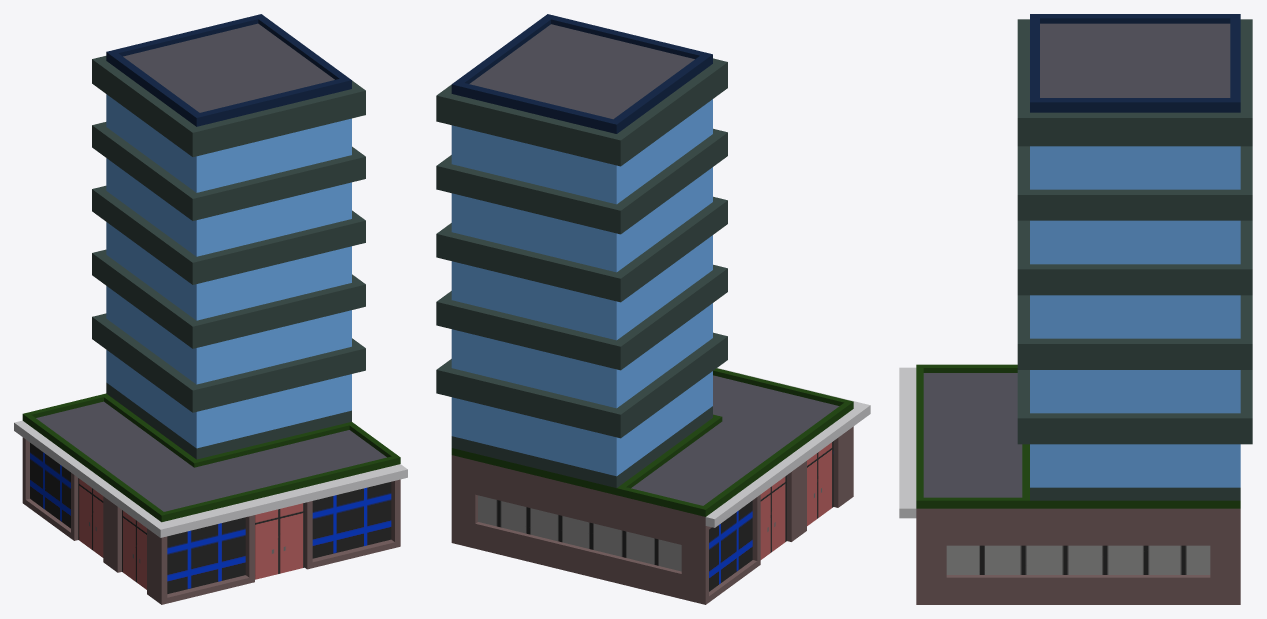
Rendered from building24a.FBX.
3 renders of one model, left to right at view 1: azimuth 30°, elevation 25°; view 2: azimuth 150°, elevation 25°; view 3: azimuth 270°, elevation 25°, orthographic. The views are drawn at different scales.
Visible parts, largest first — view 1: building24a; view 2: building24a; view 3: building24a.
Part boxes in pixels (box(x1,y1,x2,y2)): building24a: box(14, 14, 407, 604); building24a: box(436, 14, 870, 604); building24a: box(899, 14, 1252, 604).
Size of the model in its own units: 21.57 by 34.64 by 22.09.
